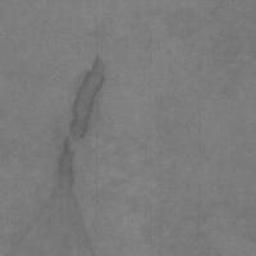Water spot: (0, 137, 99, 256), (68, 54, 106, 140)
